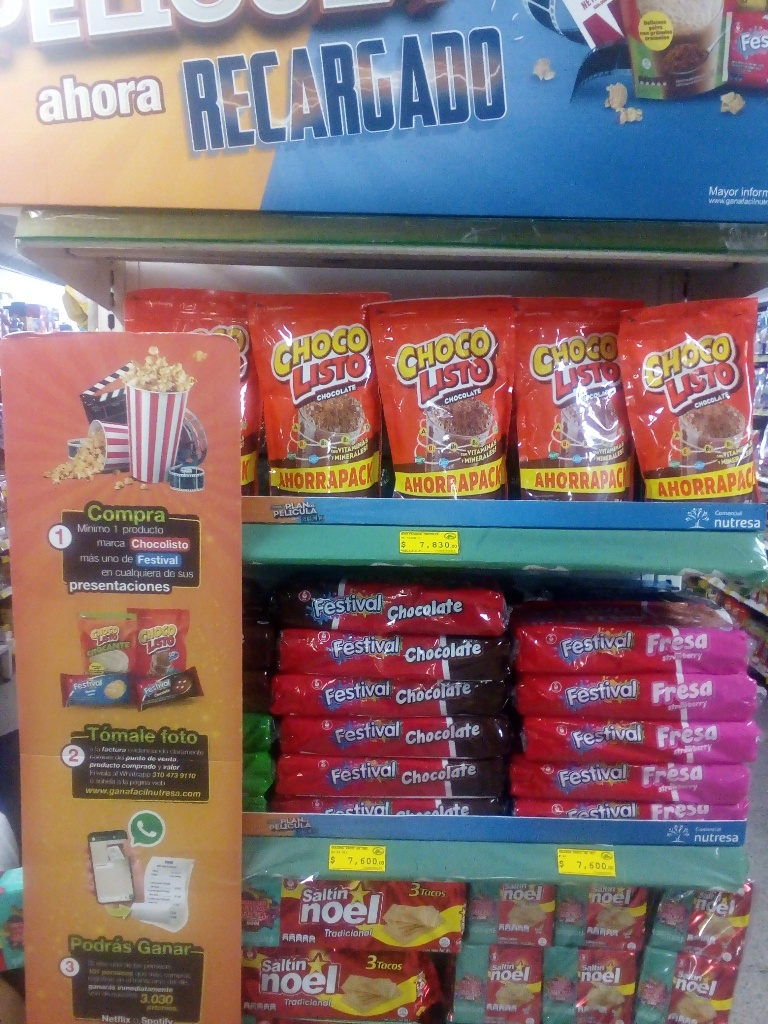COL0170103DYP36000: (244, 298, 388, 489)
